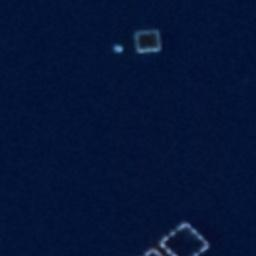square_solid: (158, 216, 212, 256), (131, 27, 167, 57)
